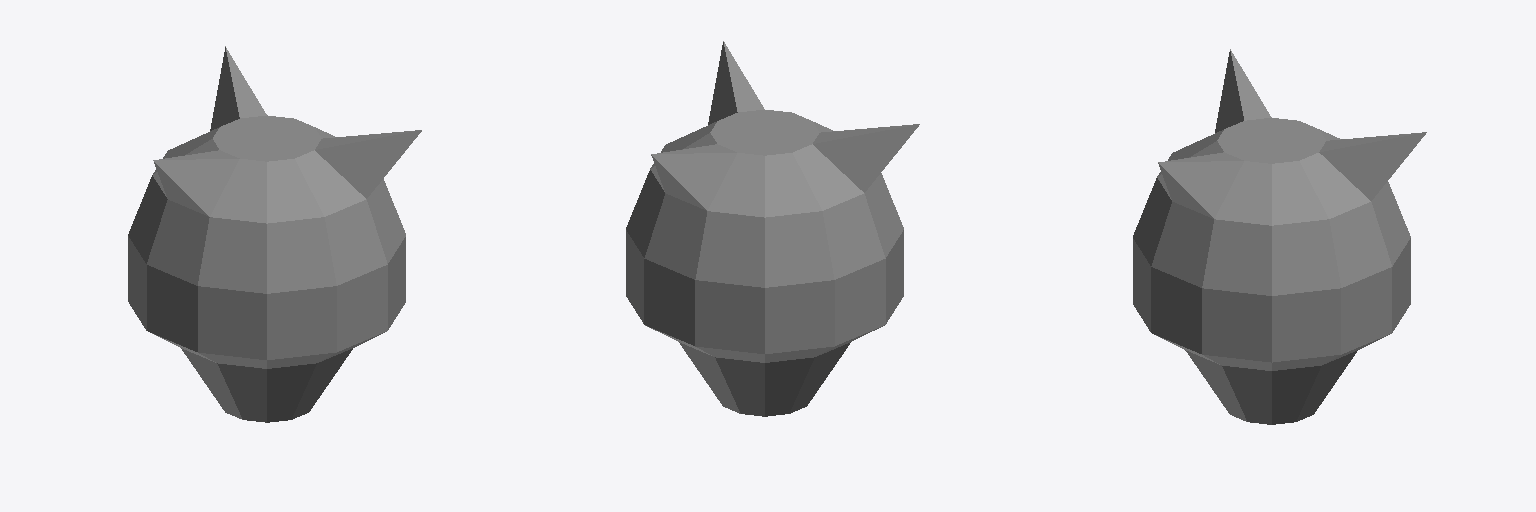
3 views of the same model, side by side, from view 1: azimuth 30°, elevation 25°; view 2: azimuth 150°, elevation 25°; view 3: azimuth 270°, elevation 25° (orthographic).
Parts seen in each view (by area): view 1: Cylinder01_sep4; view 2: Cylinder01_sep4; view 3: Cylinder01_sep4.
Boxes of the visible parts, box(x1,y1,x2,y2) form: Cylinder01_sep4: box(128, 46, 421, 422); Cylinder01_sep4: box(626, 41, 919, 416); Cylinder01_sep4: box(1133, 49, 1426, 424).
Bounding box in the file's own units: 6.35 × 6.89 × 6.35.